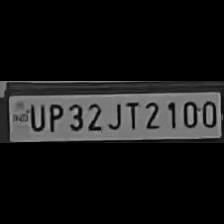0: (178, 98, 198, 130), (198, 97, 218, 129)
1: (162, 98, 178, 130)
2: (140, 98, 162, 132), (84, 99, 104, 131)
3: (65, 99, 83, 131)
J: (104, 99, 122, 131)
P: (45, 100, 63, 132)
T: (122, 99, 140, 130)
U: (26, 100, 44, 132)
